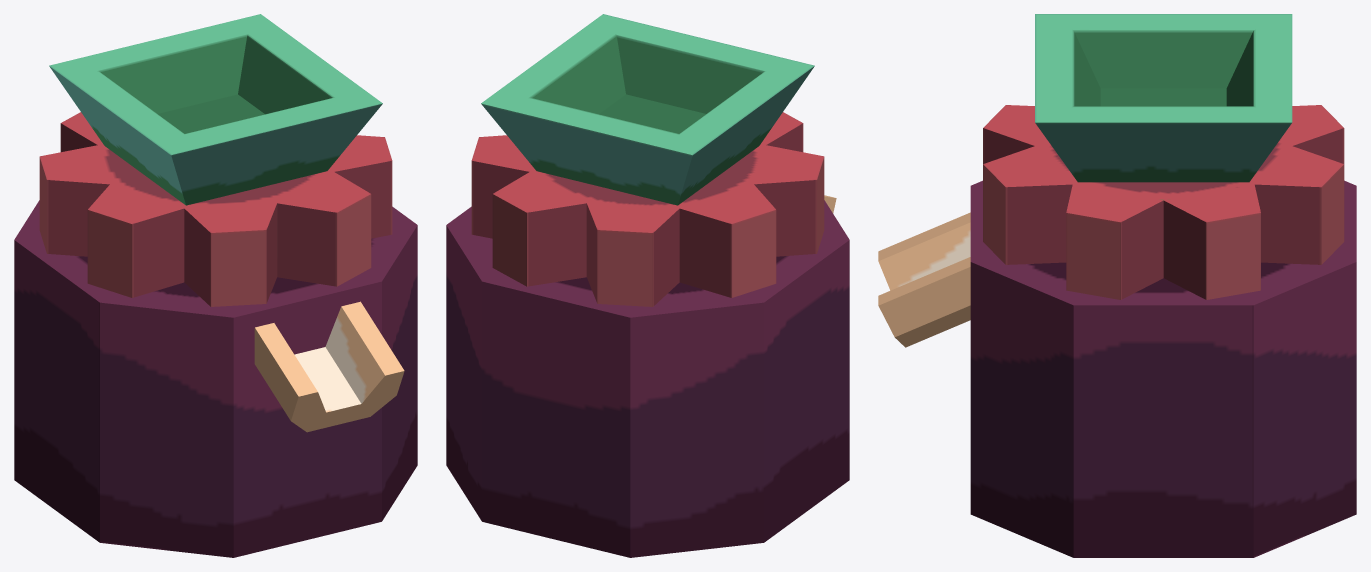
The model's file is Mill.fbx.
3 renders of one model, left to right at view 1: azimuth 30°, elevation 25°; view 2: azimuth 150°, elevation 25°; view 3: azimuth 270°, elevation 25°, orthographic. The views are drawn at different scales.
Parts seen in each view (by area): view 1: Base, Wheel, Spout; view 2: Base, Wheel; view 3: Base, Wheel, Spout.
Boxes of the visible parts, x1,y1,x2,y2 form: Base: (14, 14, 417, 557); Wheel: (39, 112, 392, 306); Spout: (254, 301, 404, 432); Base: (446, 14, 849, 557); Wheel: (471, 112, 824, 306); Base: (970, 14, 1356, 557); Wheel: (983, 105, 1344, 299); Spout: (878, 212, 970, 347).
Size of the model in its own units: 0.9 by 1.05 by 1.12.
1 material, 1 textured.
